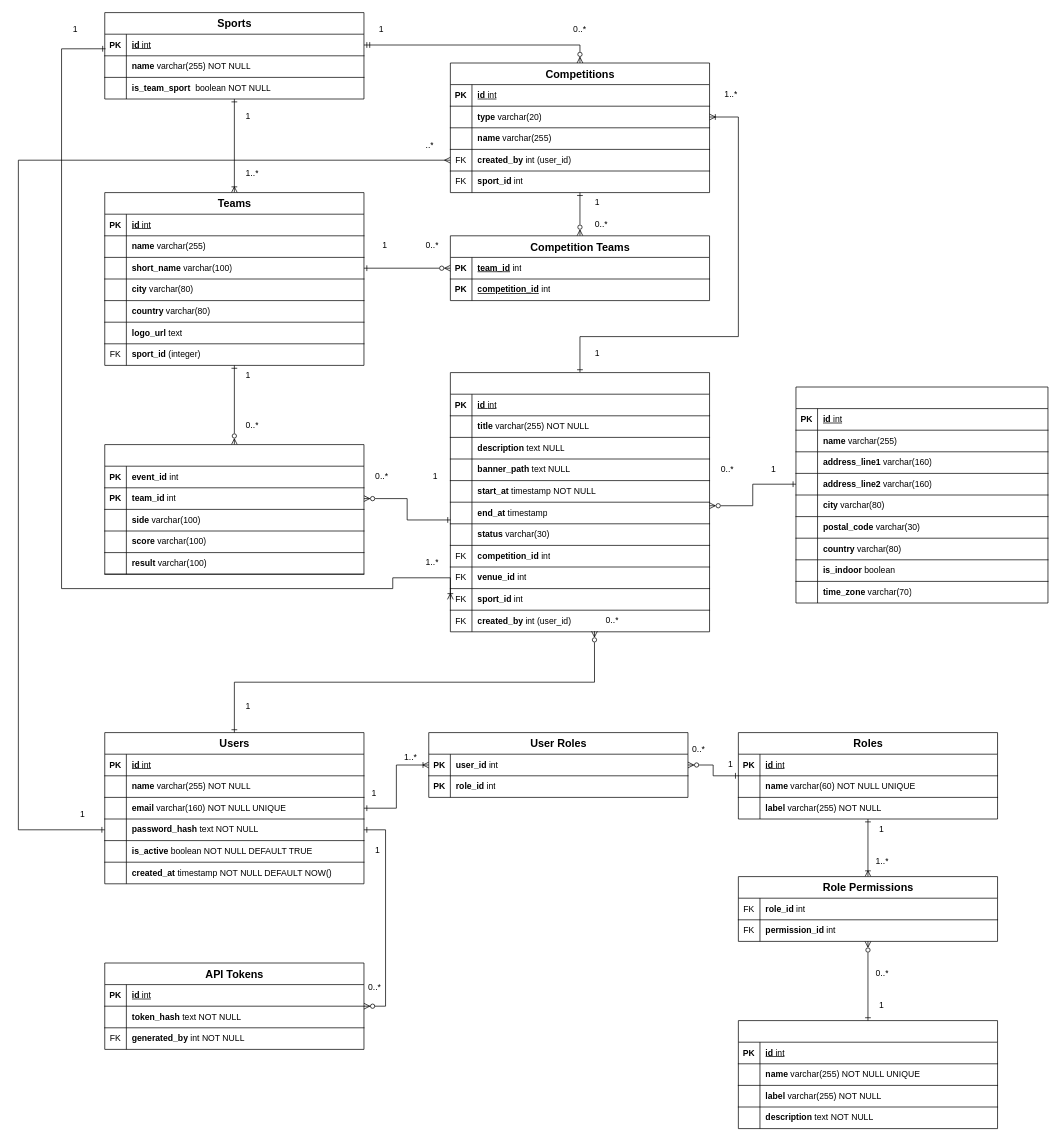
This 1061x1141 diagram has some shape labels left out. The shapes that lost their labels are listed below. From the top down, each one's box as (x1, y1, x2, y2) in pixels, then its label:
(104, 444, 364, 574): Event Teams
(450, 372, 710, 632): Events
(795, 386, 1048, 603): Venues
(738, 1020, 998, 1129): Permissions
